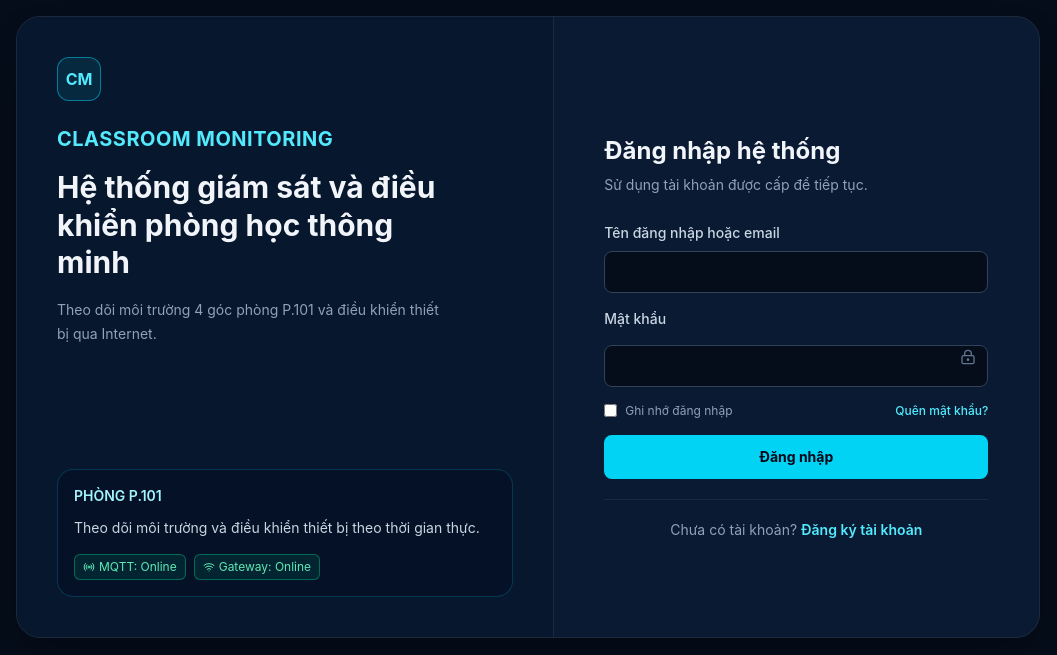
Test: Smart Classroom authenticated navigation › keeps a user on login when required credentials are blank
Clear the field labelled "Tên đăng nhập hoặc email": (796, 272) [604,250,988,292]
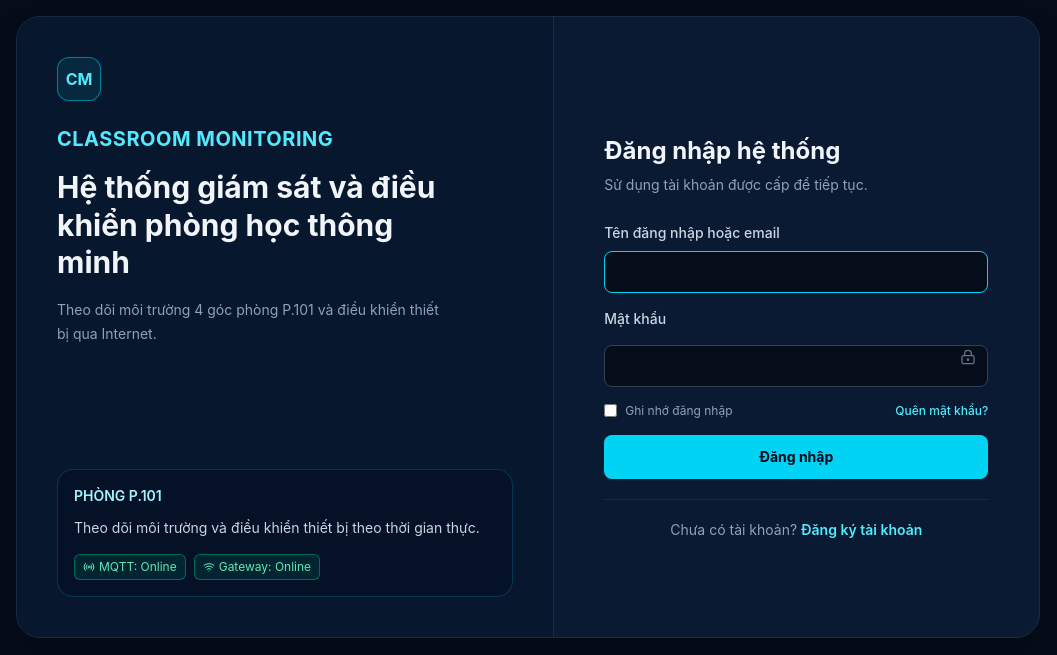
Clear the password field labelled "Mật khẩu": (796, 366) [604,344,988,386]
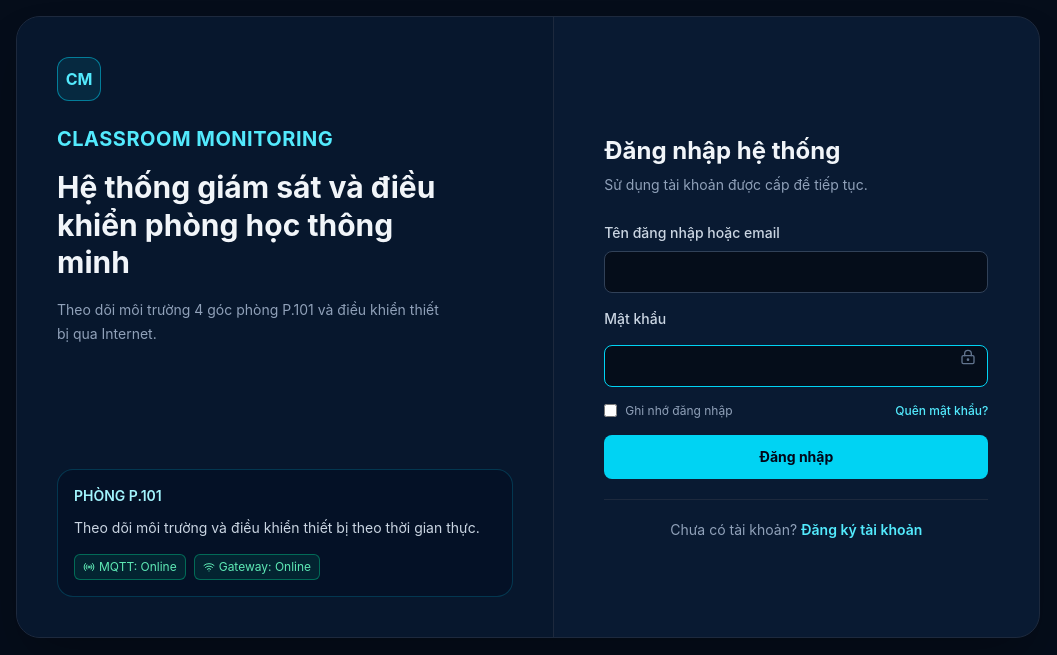
Click the button "Đăng nhập": (796, 456) [604,434,988,478]
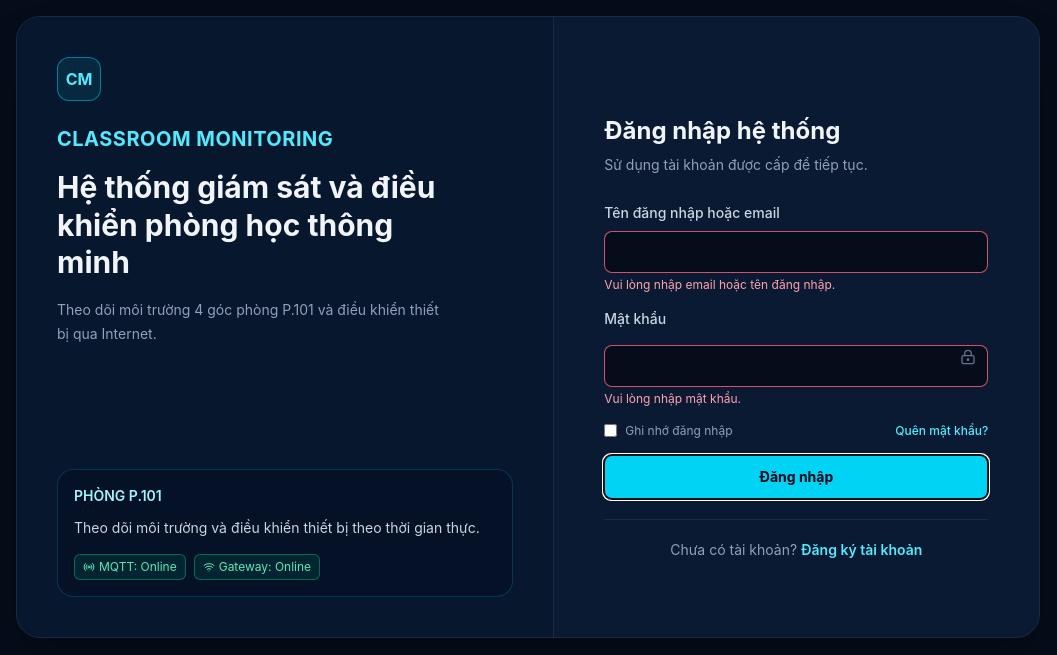
Expected: the heading "Đăng nhập hệ thống" is shown, [604,116,840,144]
Expected: the text "Vui lòng nhập email hoặc tên đăng nhập." is shown, [604,276,835,292]
Expected: the text "Vui lòng nhập mật khẩu." is shown, [604,390,741,406]
